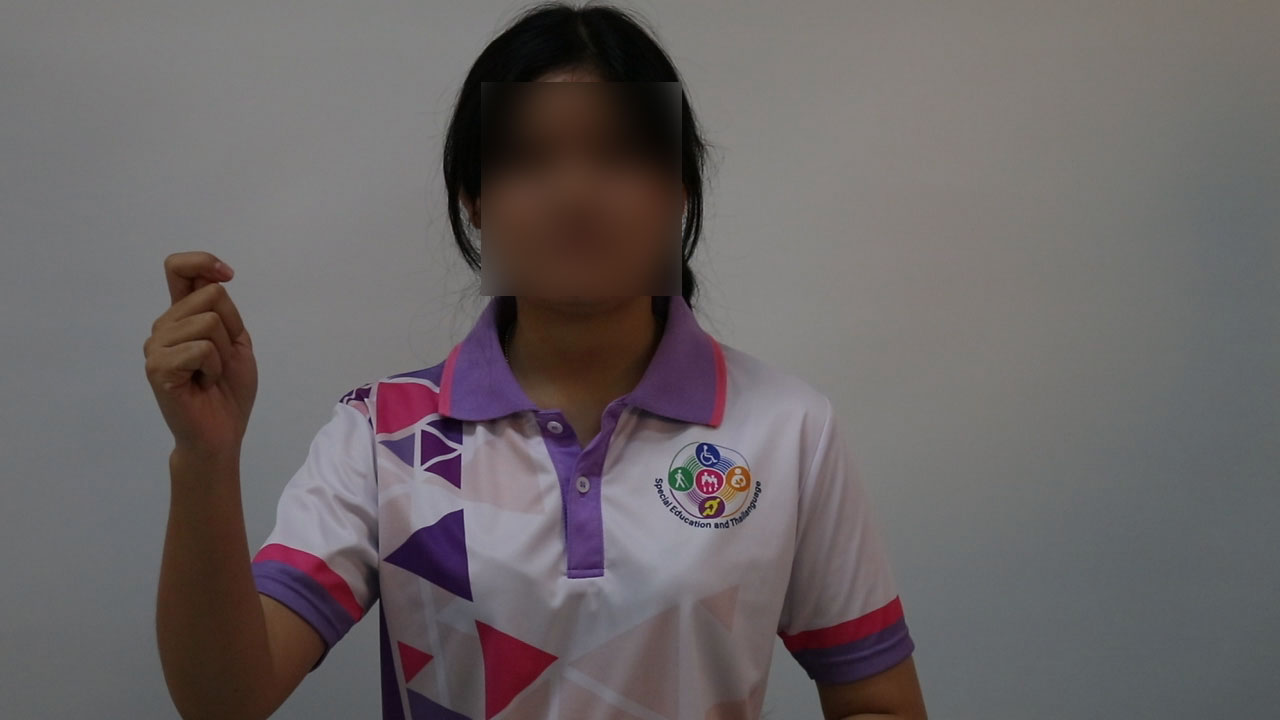or: (138, 245, 271, 470)
